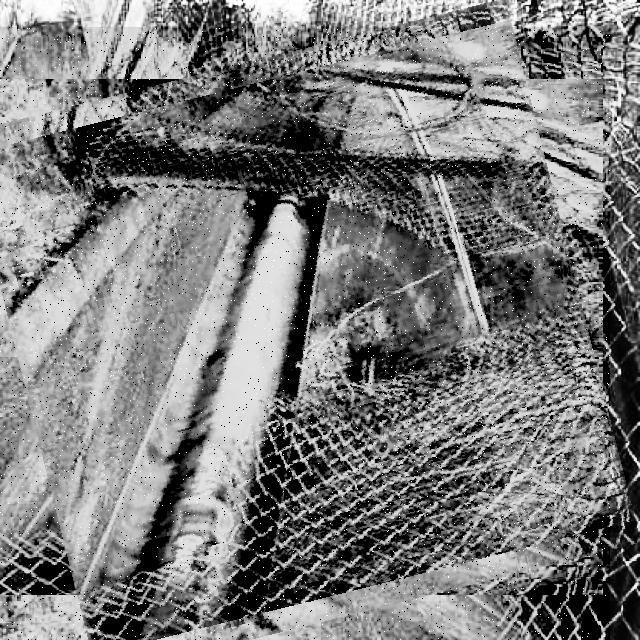anomaly-fence: (0, 27, 610, 640)
